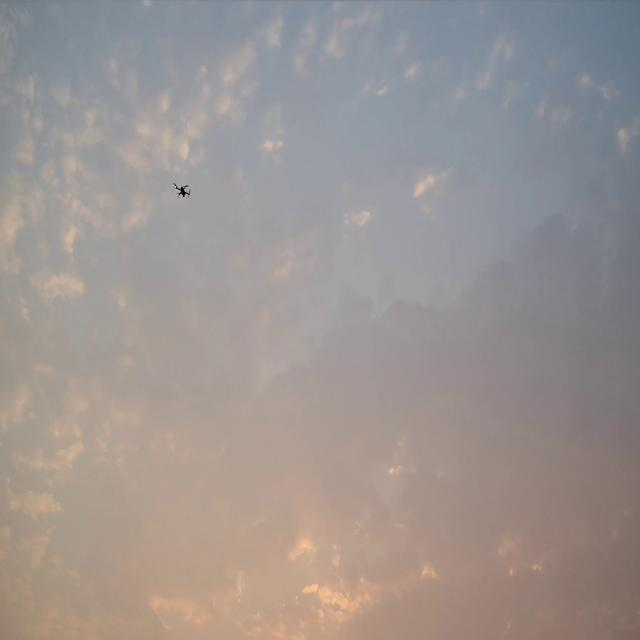UAV: (172, 182, 190, 198)
